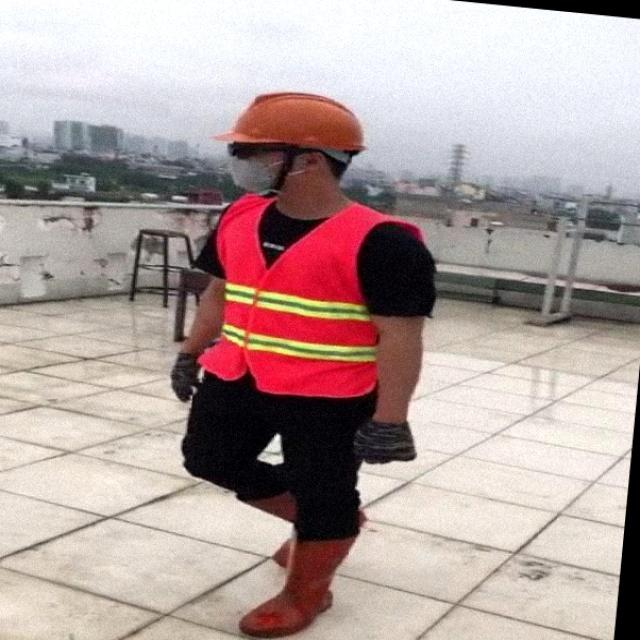helmet: (206, 88, 374, 158)
safety_vest: (202, 180, 388, 406)
